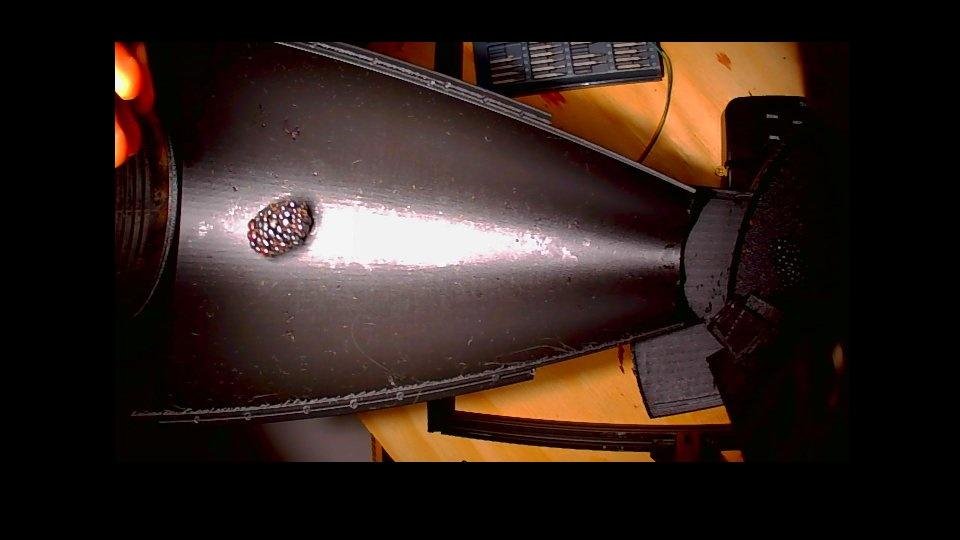berry: (247, 200, 312, 256), (772, 237, 805, 287)
